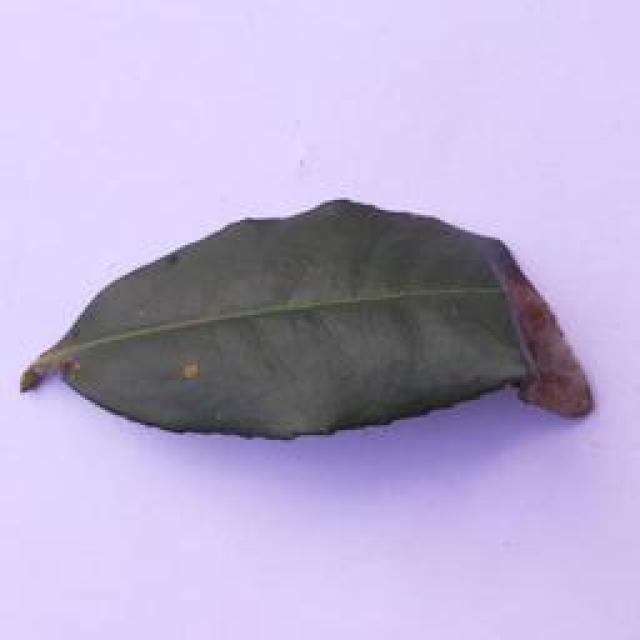Brown Blight: (12, 197, 595, 448)
